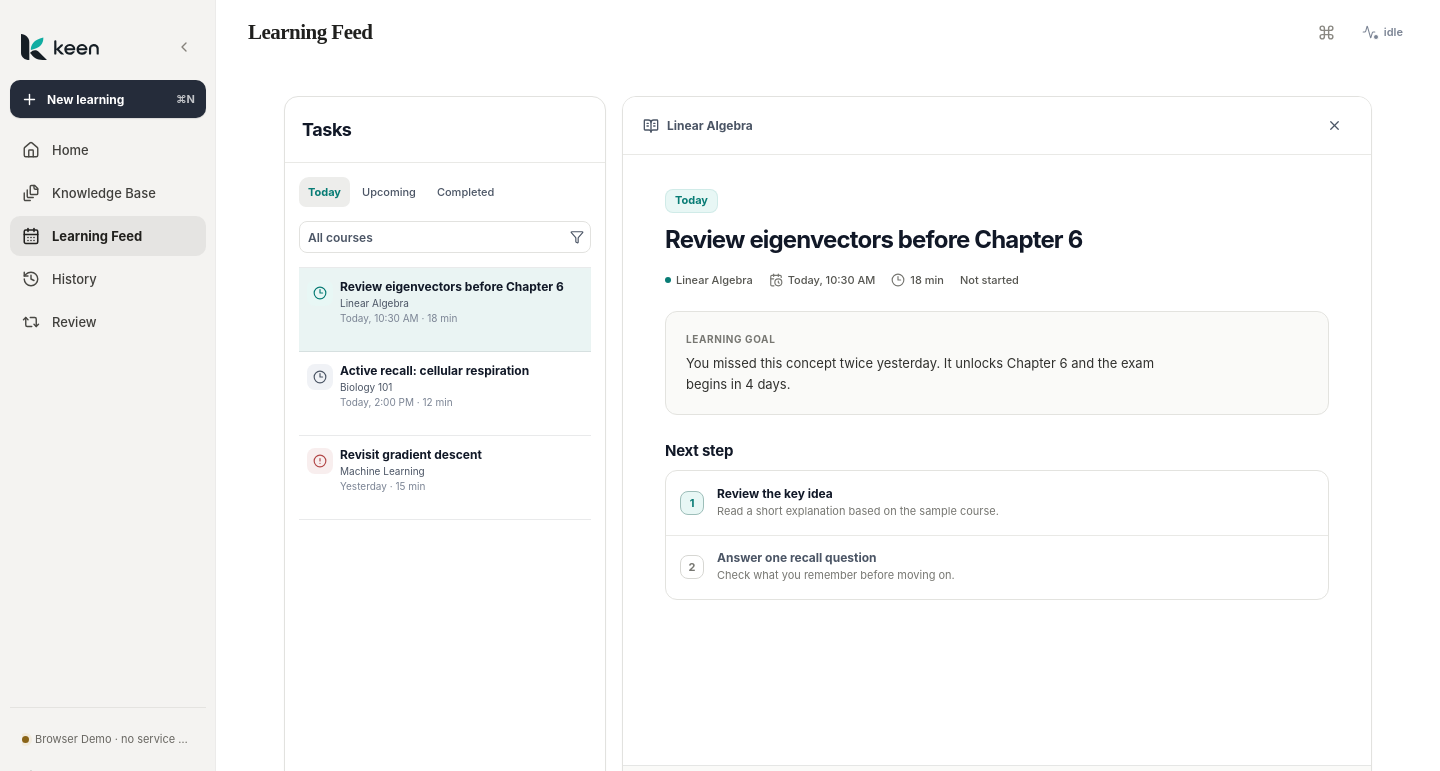
Test: desktop workflow › exposes one New learning entry and keeps Ask or Study inside Home
This screenshot has width=1440, height=771.
Step 1. Click the button "New learning ⌘N" → [108, 99], box [10,80,206,118]
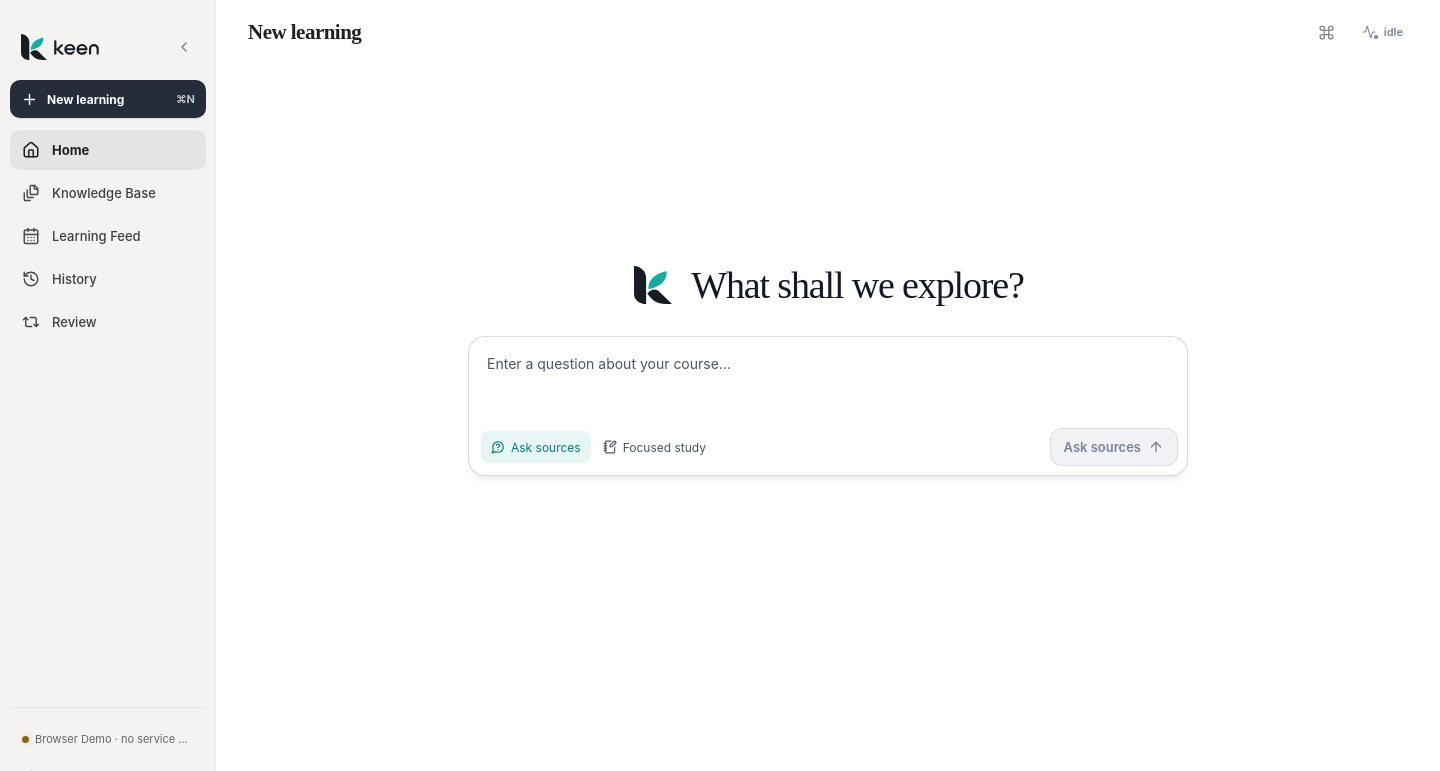
Result: the heading "What shall we explore?" is shown at [691,264,1024,306]
Result: the text box with placeholder "Enter a question about your course…" is shown at [469,337,1187,419]
Result: the 2nd button "Ask sources" is shown at [1050,428,1178,466]
Step 2. Click the button with aria-label "Focused study mode" → [654, 447], box [593,431,716,463]
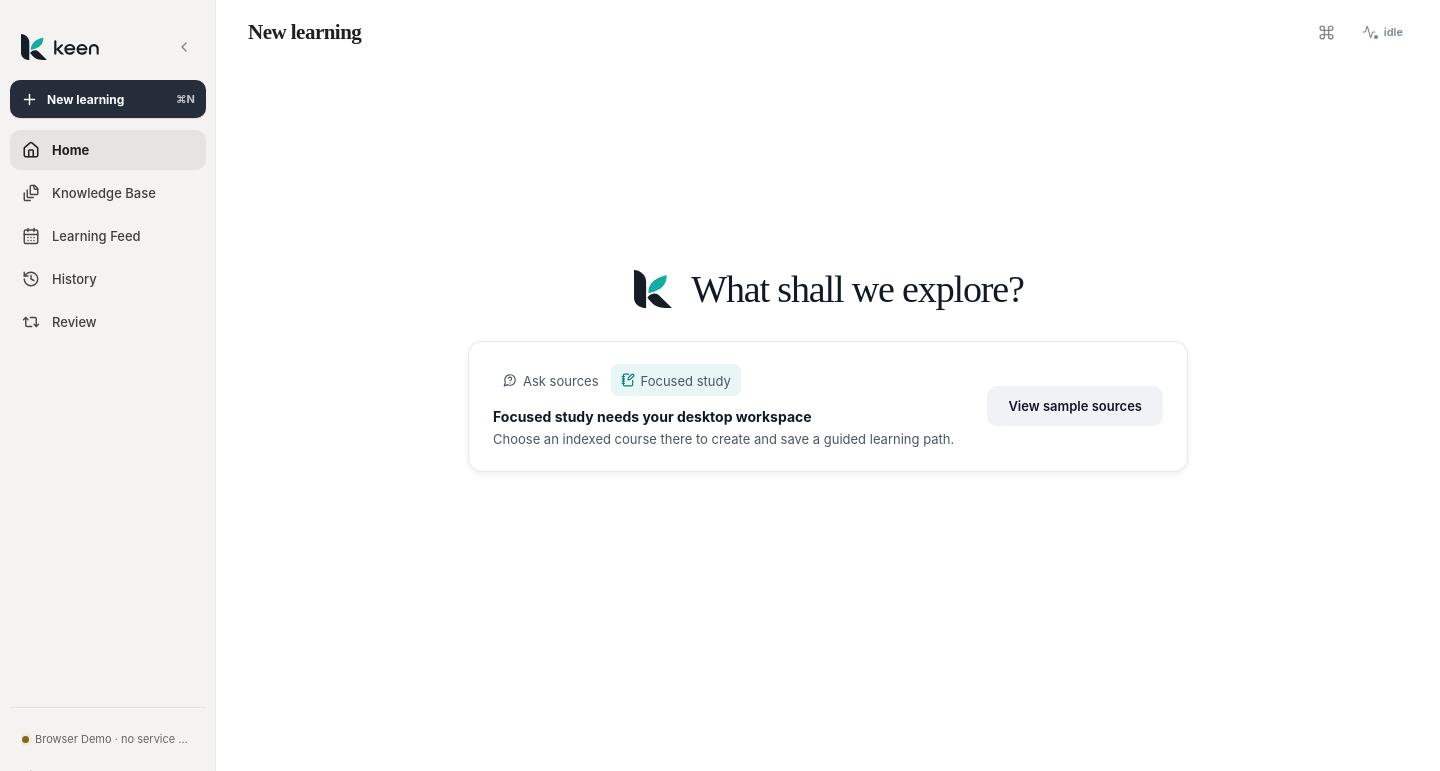
Result: the text "Focused study needs your desktop workspace" is shown at [493,408,812,424]
Result: the button "View sample sources" is shown at [987,386,1163,426]
